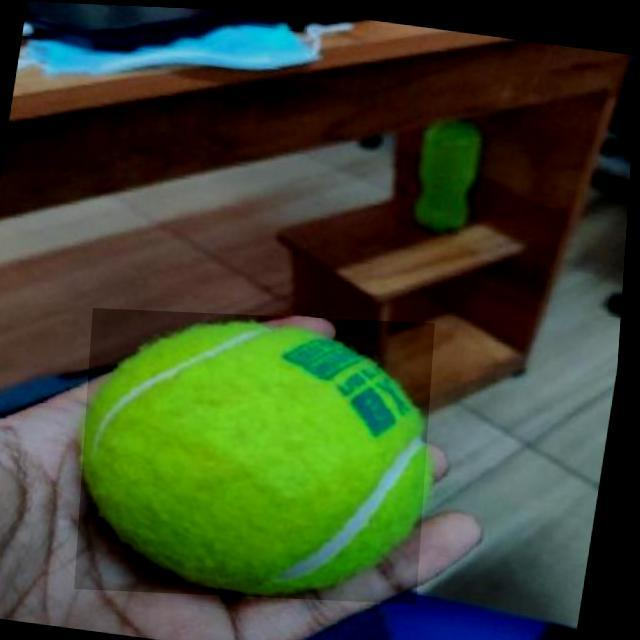-: (82, 307, 440, 600)
